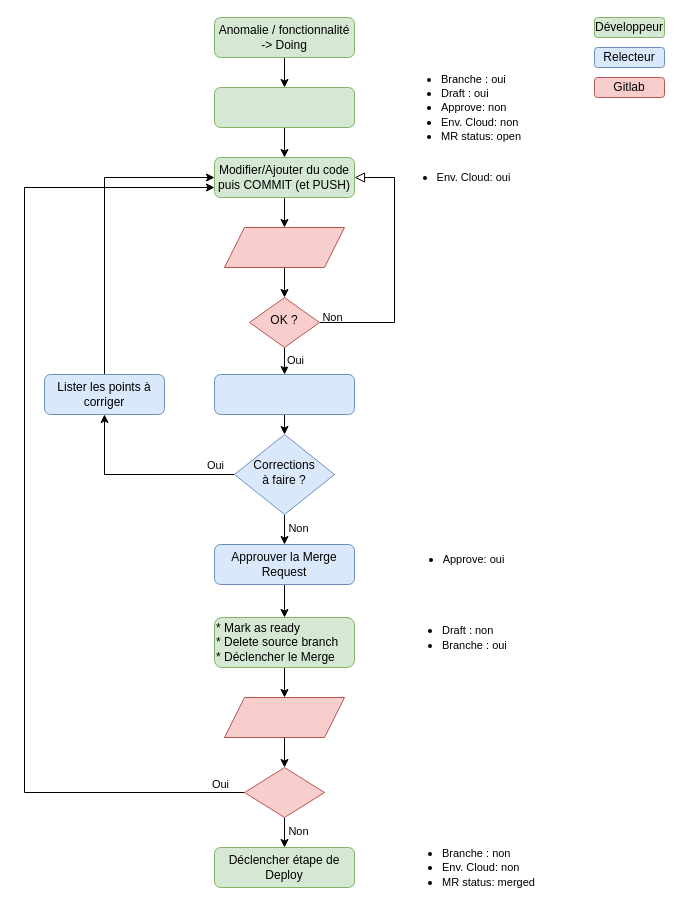
This 682x920 diagram has some shape labels left out. Each missing label, with the box of its shape:
Conflits ?: (244, 766, 324, 818)
Créer Merge Request: (214, 86, 354, 128)
Pipeline CD: (224, 696, 344, 738)
Pipeline CI: (224, 226, 344, 268)
Relecture de code Code Review: (214, 374, 354, 414)
